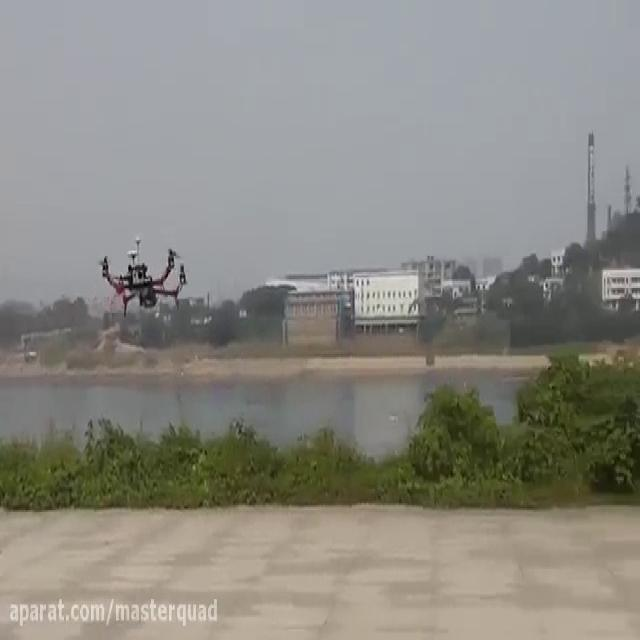drone: (94, 230, 189, 316)
